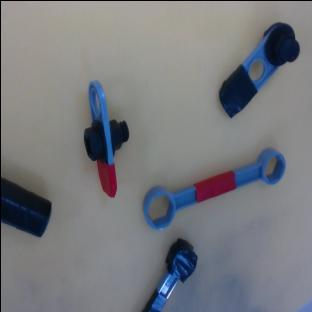part_1_bad: (203, 15, 309, 118)
part_1_good: (83, 79, 128, 196)
part_2_bad: (0, 176, 56, 239)
part_3_bad: (132, 235, 204, 312)
part_3_good: (135, 137, 291, 232)
